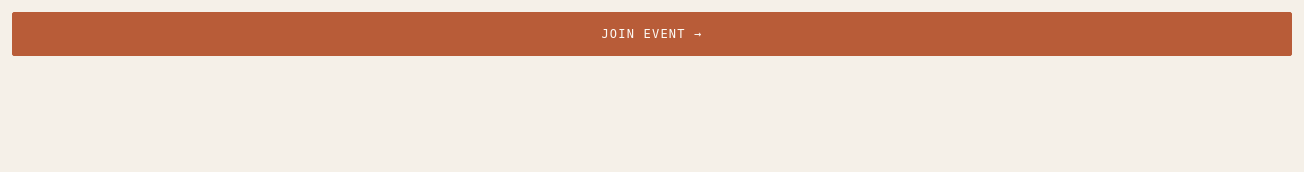
Test: JoinEventButton Component › shows error message when joinEvent returns an error
Click the button "Join event →" at (652, 34), box [12,12,1292,56]
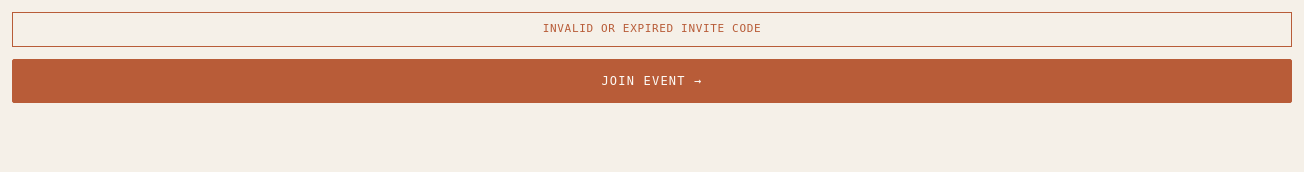
Expected: the text "Invalid or expired invite code" is shown, [12,12,1292,46]
